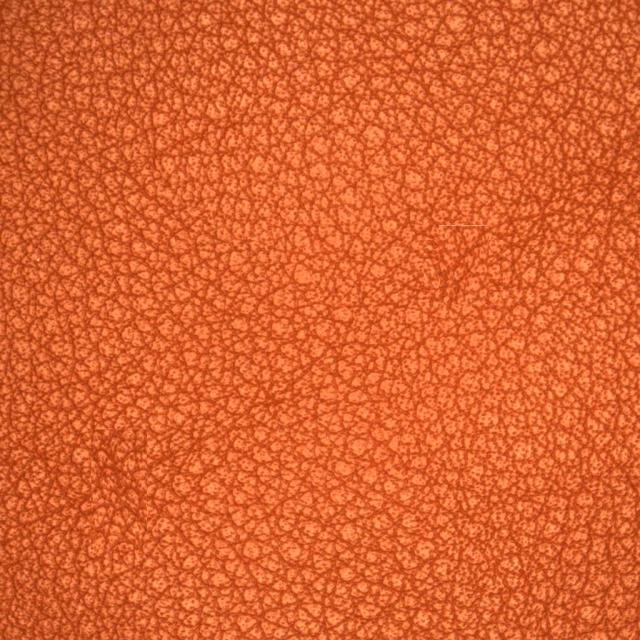Healed Injury: (29, 404, 240, 560), (427, 156, 600, 302)
